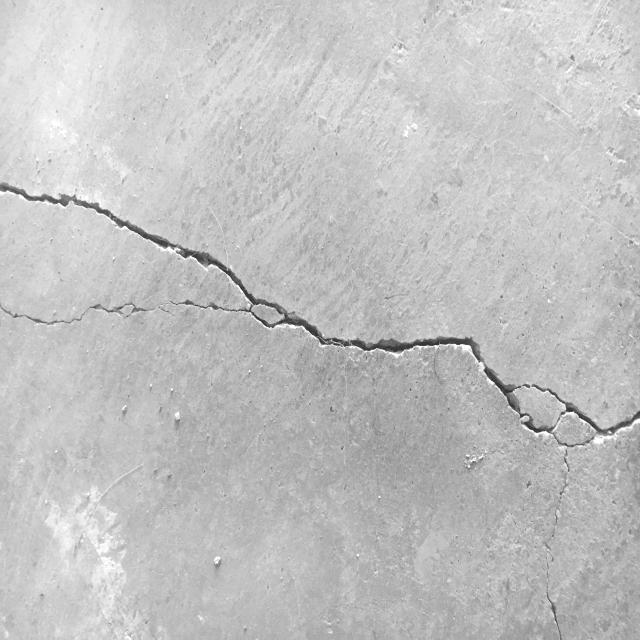SurfaceCrack: (0, 136, 639, 521)
